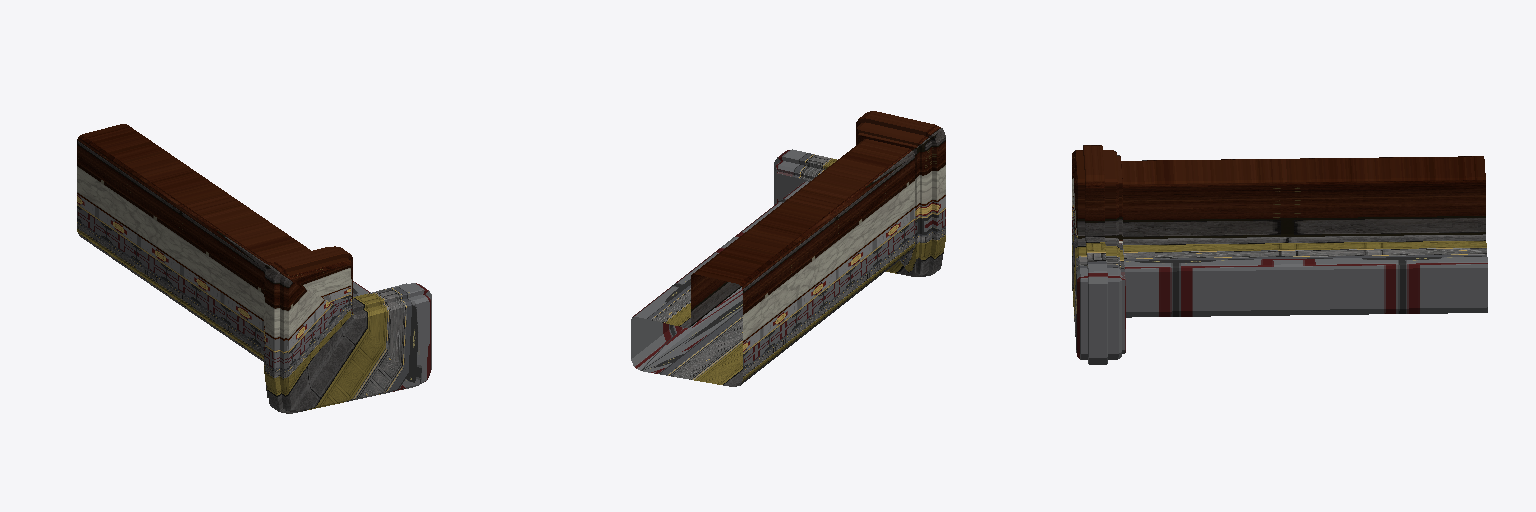
The picture shows the model from 3 angles: view 1: azimuth 30°, elevation 25°; view 2: azimuth 150°, elevation 25°; view 3: azimuth 270°, elevation 25°; orthographic projection.
Visible parts, largest first — view 1: polySurface4 group37 group35, group37 group35 polySurface3; view 2: polySurface4 group37 group35, group37 group35 polySurface3; view 3: polySurface4 group37 group35, group37 group35 polySurface3.
Part boxes in pixels (left/top/right/bottom): polySurface4 group37 group35: left=77, top=124, right=370, bottom=361; group37 group35 polySurface3: left=264, top=246, right=431, bottom=413; polySurface4 group37 group35: left=631, top=139, right=914, bottom=386; group37 group35 polySurface3: left=774, top=111, right=945, bottom=276; polySurface4 group37 group35: left=1121, top=156, right=1487, bottom=317; group37 group35 polySurface3: left=1072, top=145, right=1125, bottom=364.
Bounding box in the file's own units: 6.21 × 5.63 × 13.87.
1 materials, 1 textured.